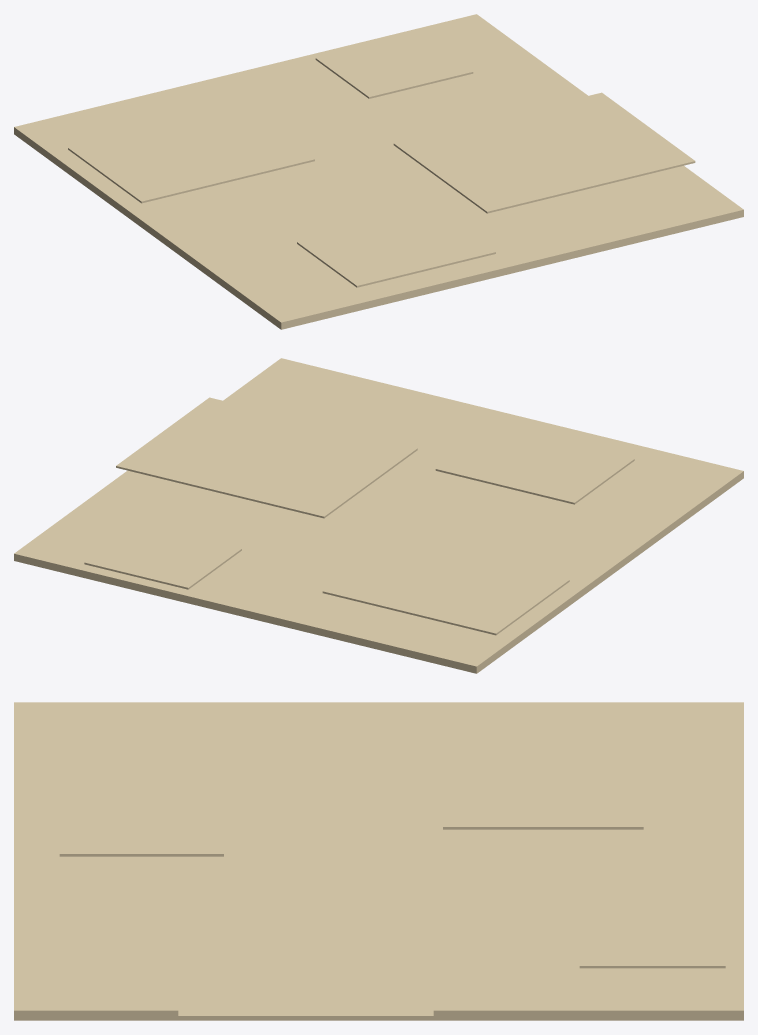
The model's file is travelling-circus-and-big-top-showground-ground-tile-0c74e497__36225.glb.
3 views of the same model, one above another, from view 1: azimuth 30°, elevation 25°; view 2: azimuth 150°, elevation 25°; view 3: azimuth 270°, elevation 25° (orthographic). The views are drawn at different scales.
Visible parts, largest first — view 1: showground-ground-tile-sawdust; view 2: showground-ground-tile-sawdust; view 3: showground-ground-tile-sawdust.
Part boxes in pixels (left/top/right/bottom): showground-ground-tile-sawdust: left=14, top=14, right=743, bottom=329; showground-ground-tile-sawdust: left=14, top=358, right=743, bottom=673; showground-ground-tile-sawdust: left=14, top=702, right=743, bottom=1020.
Size of the model in its own units: 4.1 by 0.0751 by 4.
